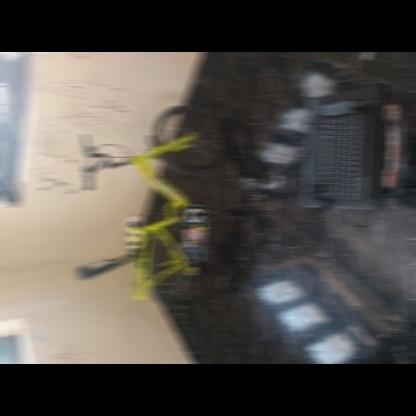Bicycle: (69, 58, 255, 318)
